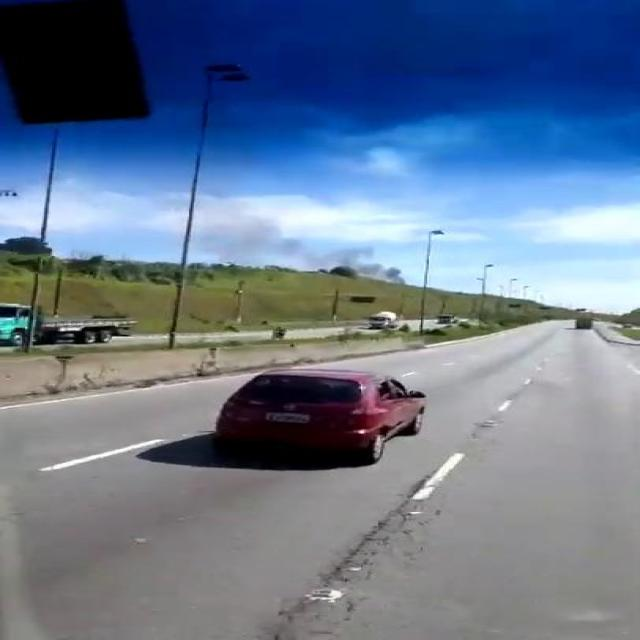Smoke: (170, 192, 445, 292)
